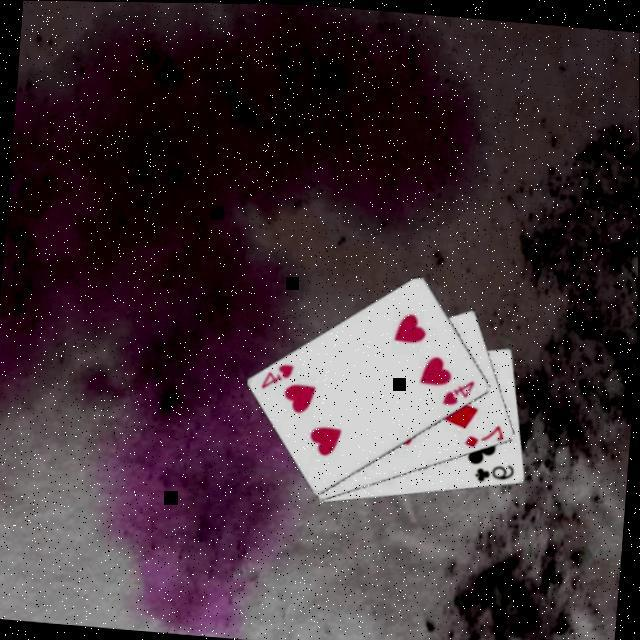4H: (438, 374, 476, 408), (256, 358, 294, 392)
6C: (469, 458, 516, 486)
7D: (460, 418, 506, 452)
